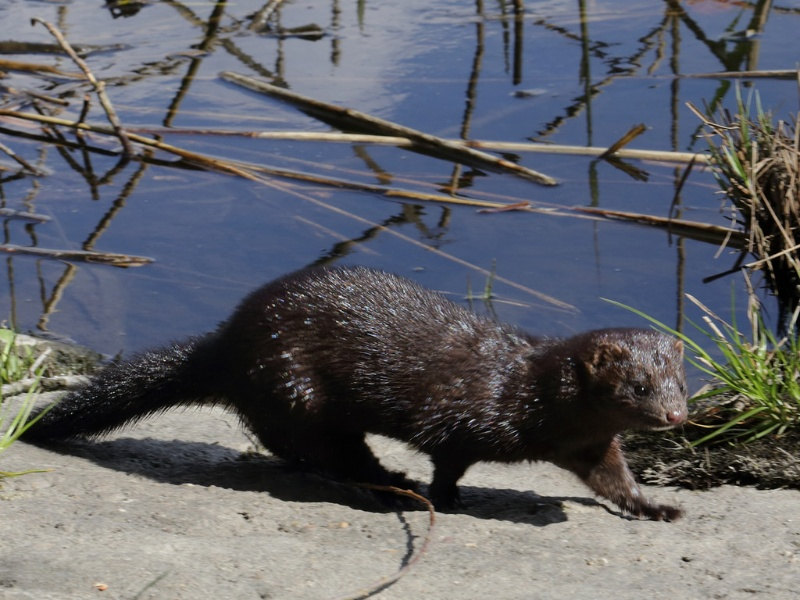minkish: (21, 258, 701, 530)
